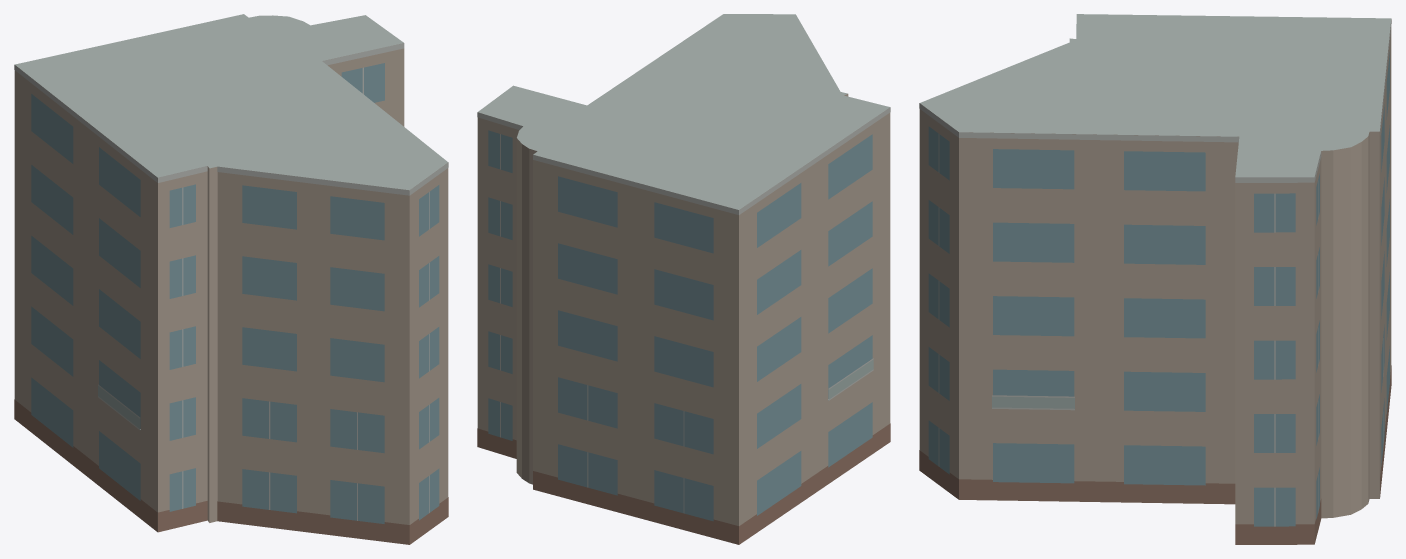
Rendered from survey-upis-32955068.glb.
3 renders of one model, left to right at view 1: azimuth 30°, elevation 25°; view 2: azimuth 150°, elevation 25°; view 3: azimuth 270°, elevation 25°, orthographic. The views are drawn at different scales.
Visible parts, largest first — view 1: survey-upis-32955068.tmp; view 2: survey-upis-32955068.tmp; view 3: survey-upis-32955068.tmp.
Part boxes in pixels (<box>): survey-upis-32955068.tmp: <box>14,14,448,544</box>; survey-upis-32955068.tmp: <box>477,14,890,544</box>; survey-upis-32955068.tmp: <box>919,14,1391,544</box>.
Bounding box in the file's own units: 15.16 × 15.9 × 18.51.
